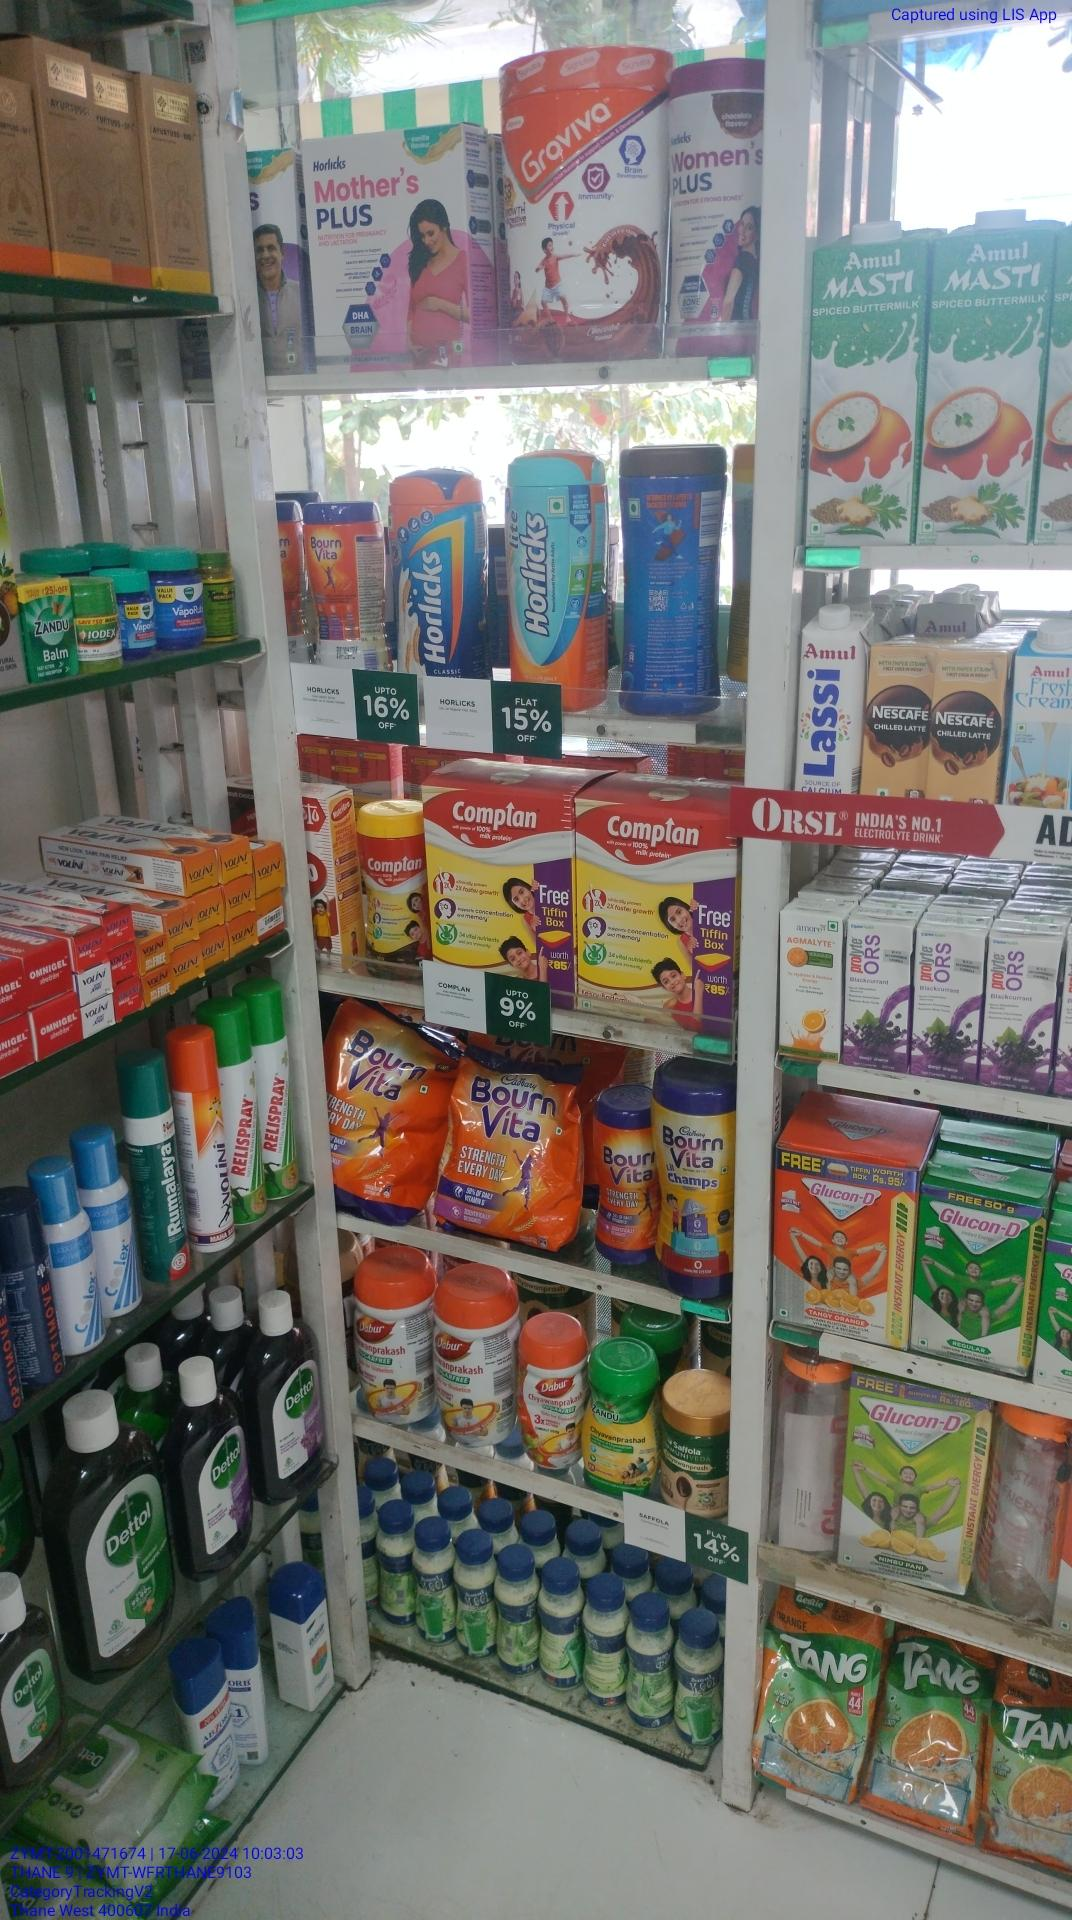BOURN_VITA_CHAMPS_500_G_JAR: (658, 1058, 738, 1295)
COMPLAN_CHOCOLATE_200_GMS_JAR: (363, 799, 426, 978)
HORLICKS_LITE_REGULAR_MALT_500_GM_JAR: (505, 448, 584, 704)
HORLICK_CLASSIC_MALT_500_G_JAR: (392, 462, 488, 676)
